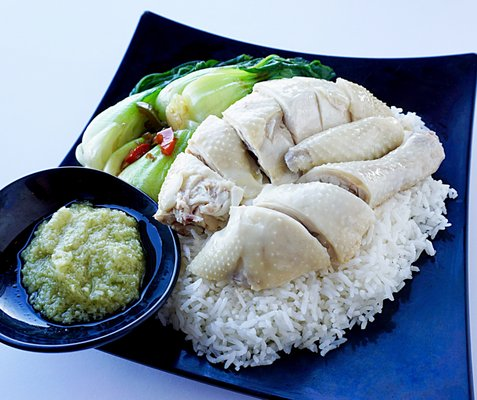curry: (19, 200, 146, 324)
sushi: (1, 166, 180, 354)
